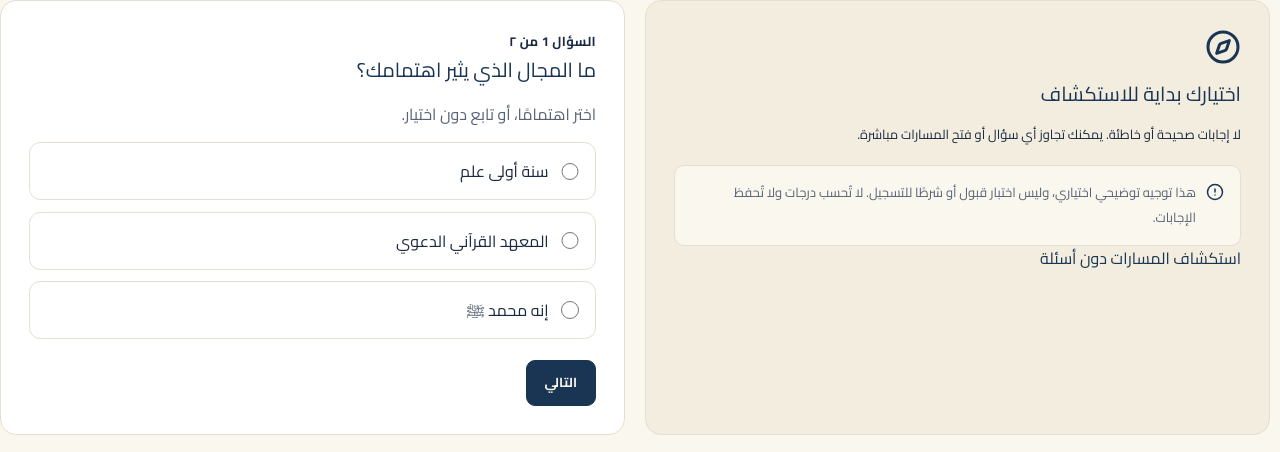
Test: MARKETING-FE-PUBLIC › allows skipping all answers without a score or enrollment prerequisite
Expected: the link "استكشاف المسارات دون أسئلة" is shown, [1040,243,1241,273]
Click the button "التالي". click: (561, 382)
box: [526,360,596,406]
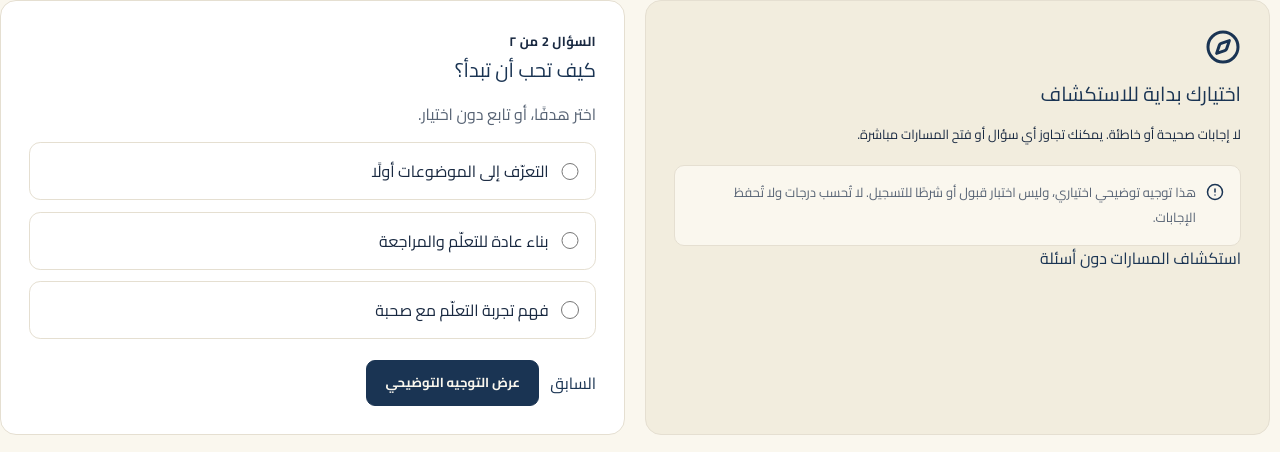
Click the button "عرض التوجيه التوضيحي". click: (453, 382)
box: [366,360,539,406]
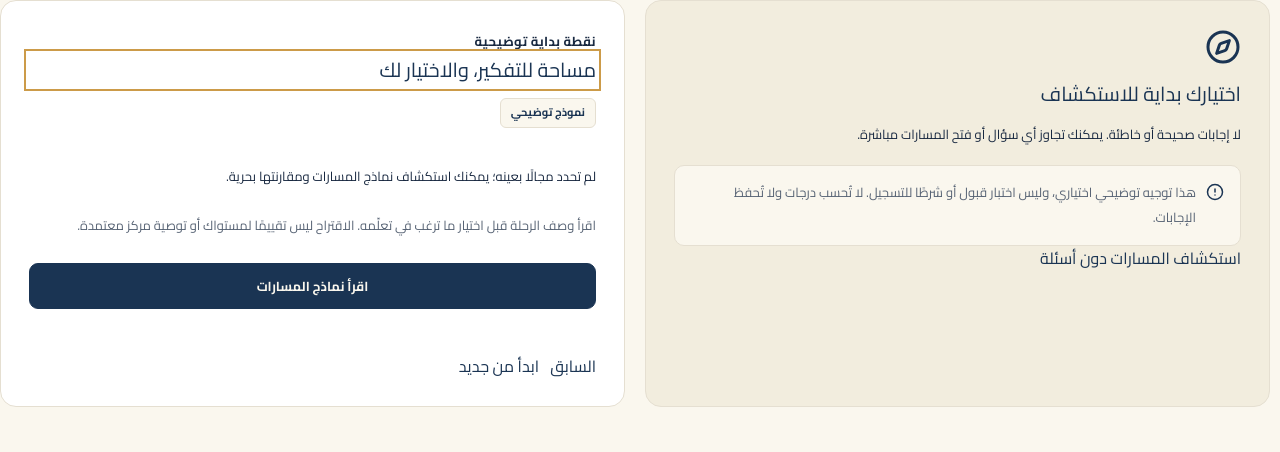
Result: the text "لم تحدد مجالًا بعينه" is shown at [226,164,596,188]
Result: the text "ليس تقييمًا لمستواك" is shown at [77,214,357,238]
